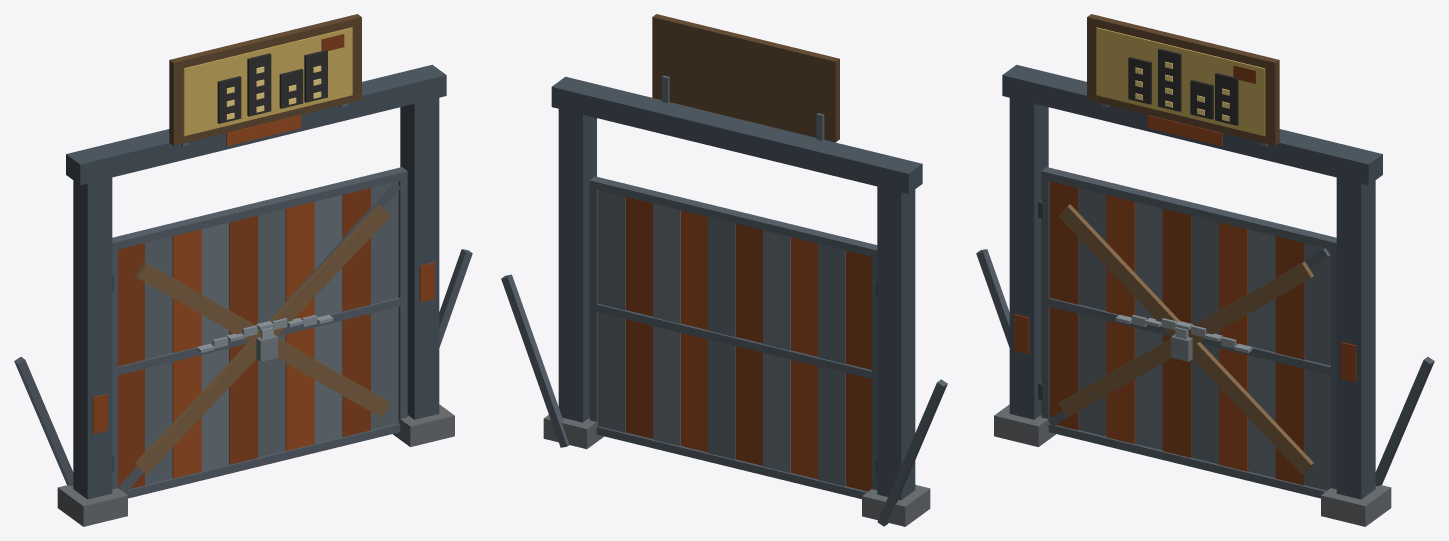
File: Lobby_Door_City.obj
The picture shows the model from 3 angles, left to right: view 1: azimuth 30°, elevation 25°; view 2: azimuth 150°, elevation 25°; view 3: azimuth 330°, elevation 25°; orthographic projection. The views are drawn at different scales.
Parts seen in each view (by area): view 1: GateCity__Door_GateCity__Door, GateCity__Frame_GateCity__Frame, GateCity__Sign_GateCity__Sign, GateCity__Lock_GateCity__Lock; view 2: GateCity__Door_GateCity__Door, GateCity__Frame_GateCity__Frame, GateCity__Sign_GateCity__Sign; view 3: GateCity__Door_GateCity__Door, GateCity__Frame_GateCity__Frame, GateCity__Sign_GateCity__Sign, GateCity__Lock_GateCity__Lock.
Part boxes in pixels (x1,y1,x2,y2): GateCity__Door_GateCity__Door: (112, 167, 407, 498); GateCity__Frame_GateCity__Frame: (14, 64, 472, 526); GateCity__Sign_GateCity__Sign: (169, 14, 361, 145); GateCity__Lock_GateCity__Lock: (135, 204, 390, 474); GateCity__Door_GateCity__Door: (589, 176, 877, 499); GateCity__Frame_GateCity__Frame: (501, 75, 947, 526); GateCity__Sign_GateCity__Sign: (652, 14, 839, 142); GateCity__Door_GateCity__Door: (1038, 167, 1336, 498); GateCity__Frame_GateCity__Frame: (976, 64, 1434, 526); GateCity__Sign_GateCity__Sign: (1087, 14, 1279, 145); GateCity__Lock_GateCity__Lock: (1058, 204, 1313, 474).
Bounding box in the file's own units: 18.35 × 17.12 × 2.03.
